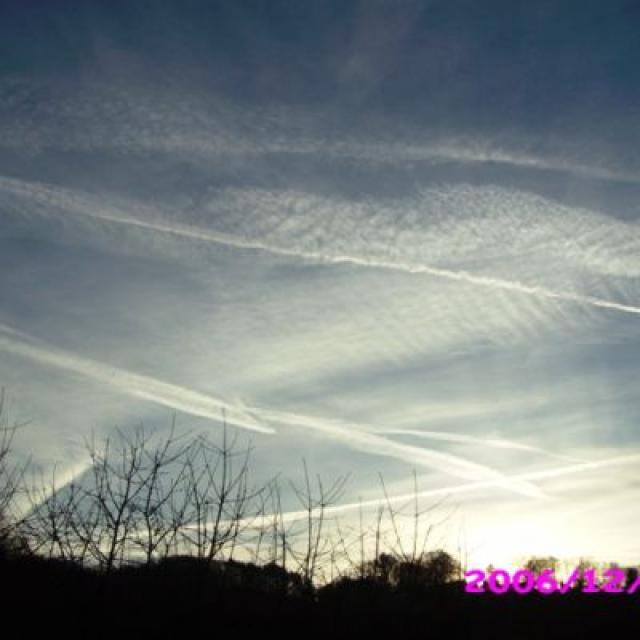Cc: (1, 71, 640, 432)
